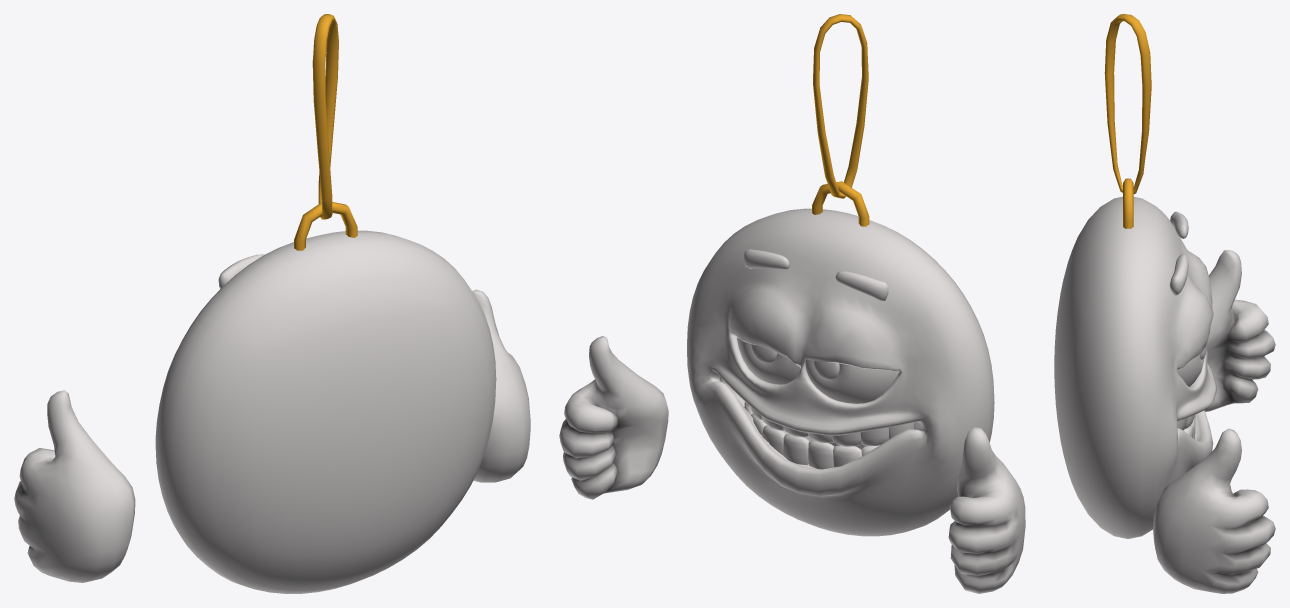
File: Ball_Thup.fbx
3 renders of one model, left to right at view 1: azimuth 30°, elevation 25°; view 2: azimuth 150°, elevation 25°; view 3: azimuth 270°, elevation 25°, orthographic. The views are drawn at different scales.
Visible parts, largest first — view 1: Ball_Thup; view 2: Ball_Thup; view 3: Ball_Thup.
Part boxes in pixels (x1=…): Ball_Thup: x1=14, y1=14, x2=530, y2=593; Ball_Thup: x1=559, y1=14, x2=1025, y2=593; Ball_Thup: x1=1054, y1=14, x2=1275, y2=593.
Bounding box in the file's own units: 7.2 × 7.91 × 3.14.
